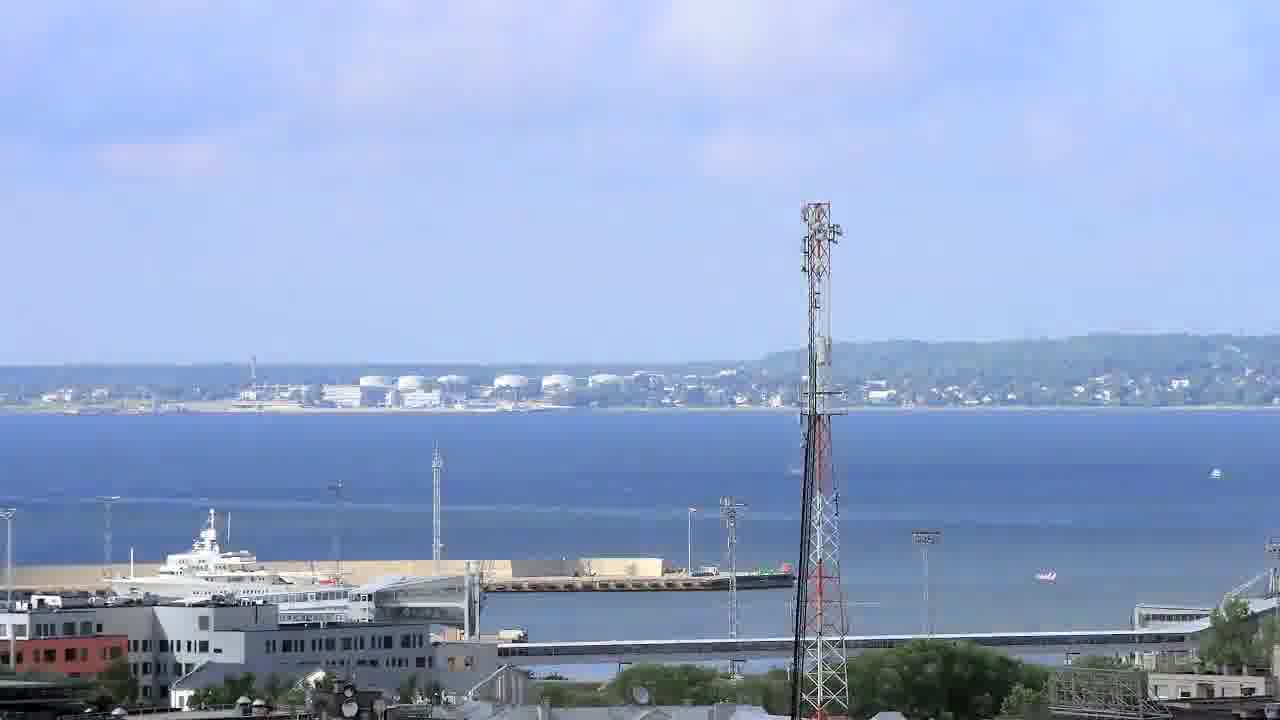type-3: (96, 508, 381, 605)
type-4: (1020, 554, 1076, 599), (1192, 451, 1242, 498)
